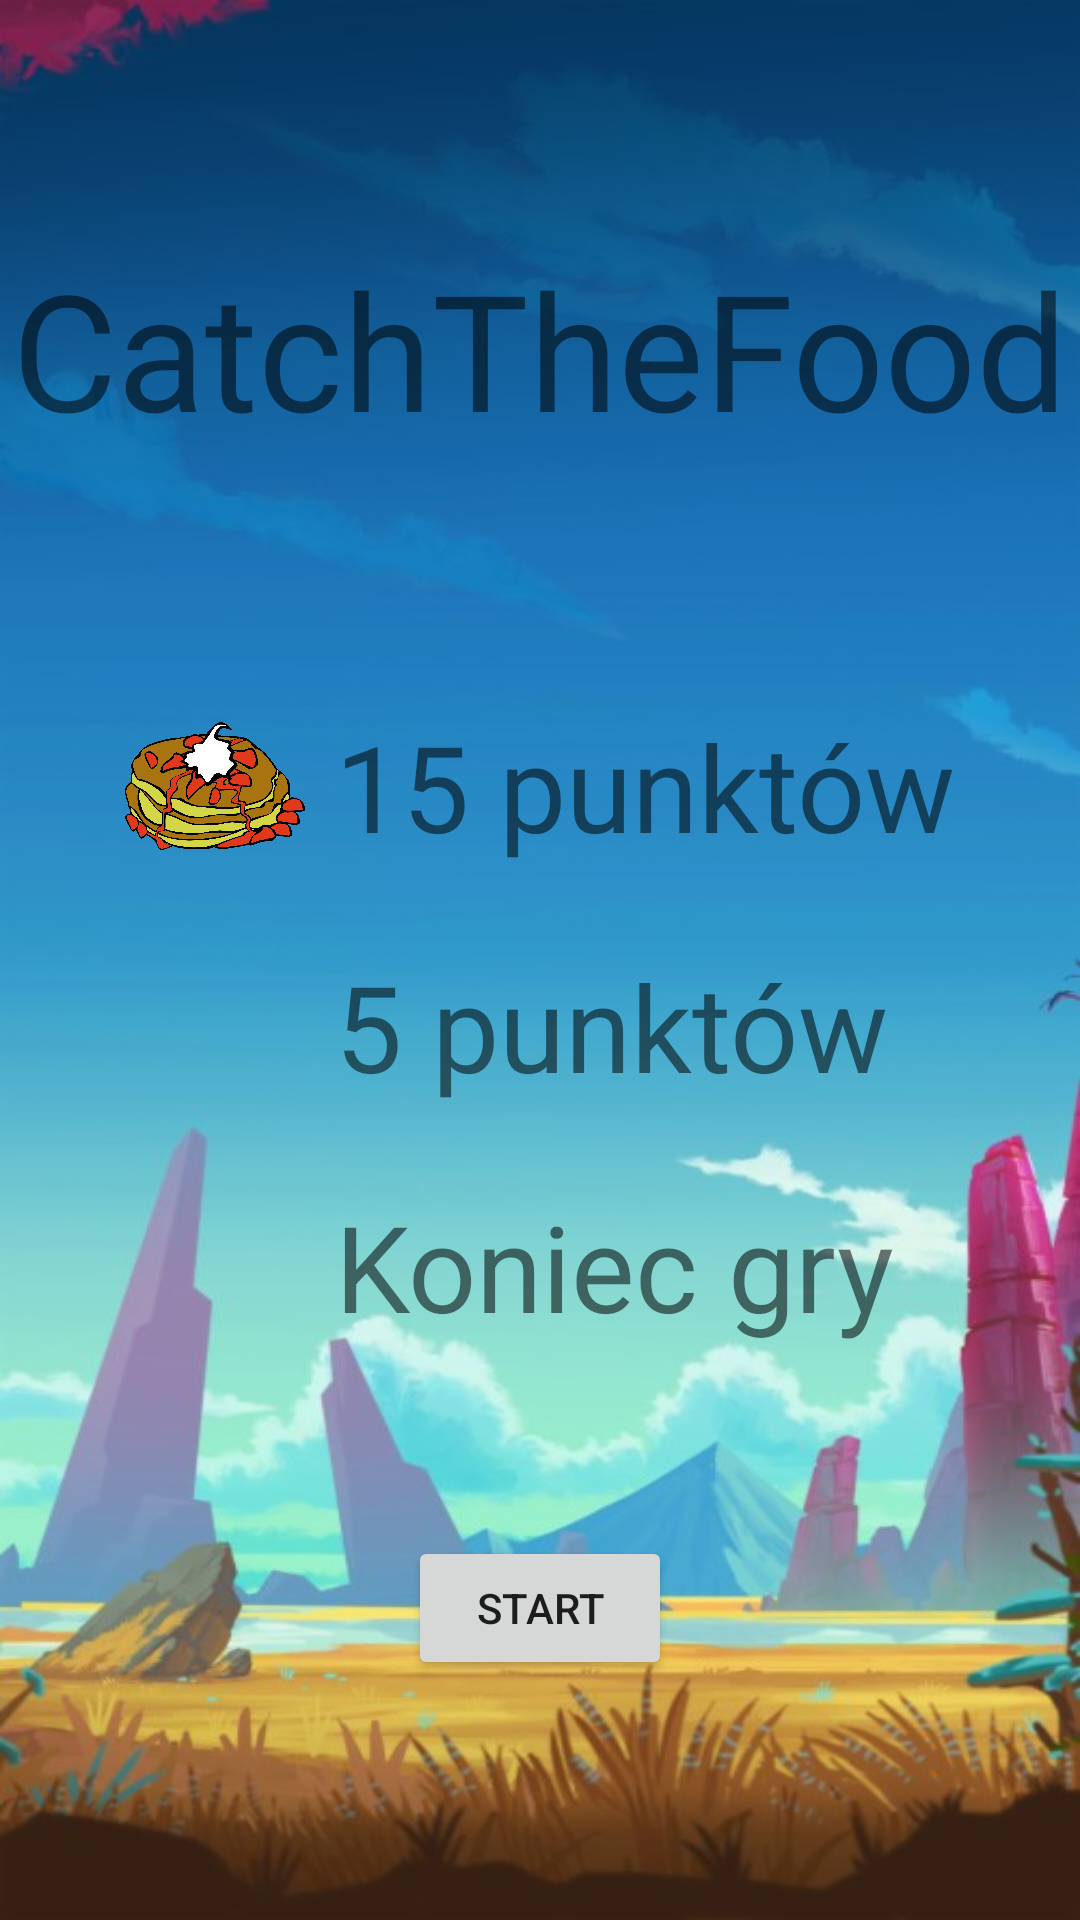

Where to tap for icons on this 1080 x 1920 app screen, as (x,y):
food: (215,786)
